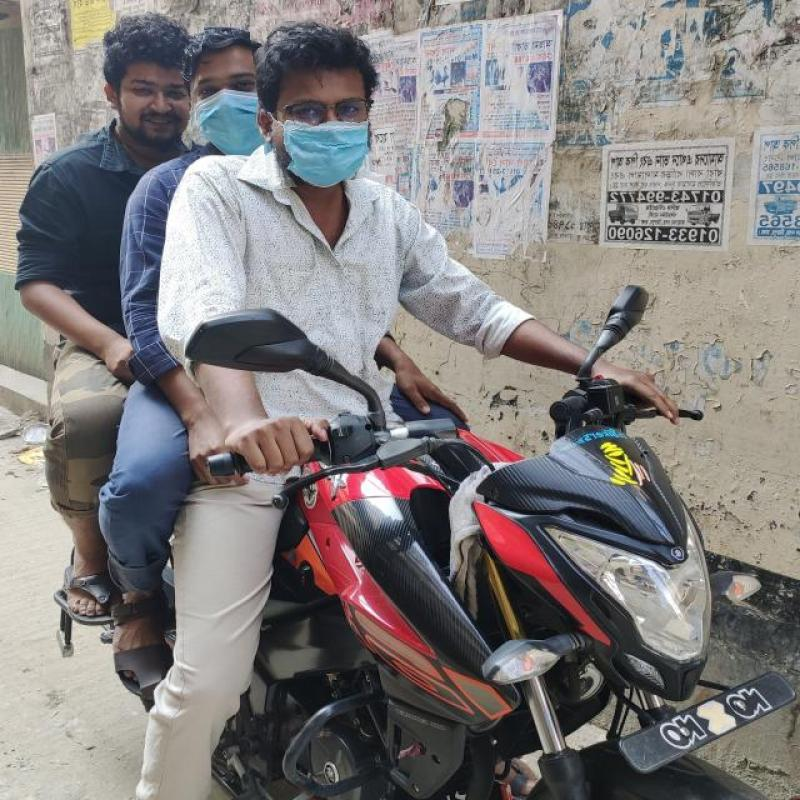nohelmet: (254, 14, 406, 186), (80, 11, 202, 148), (504, 143, 514, 158)
